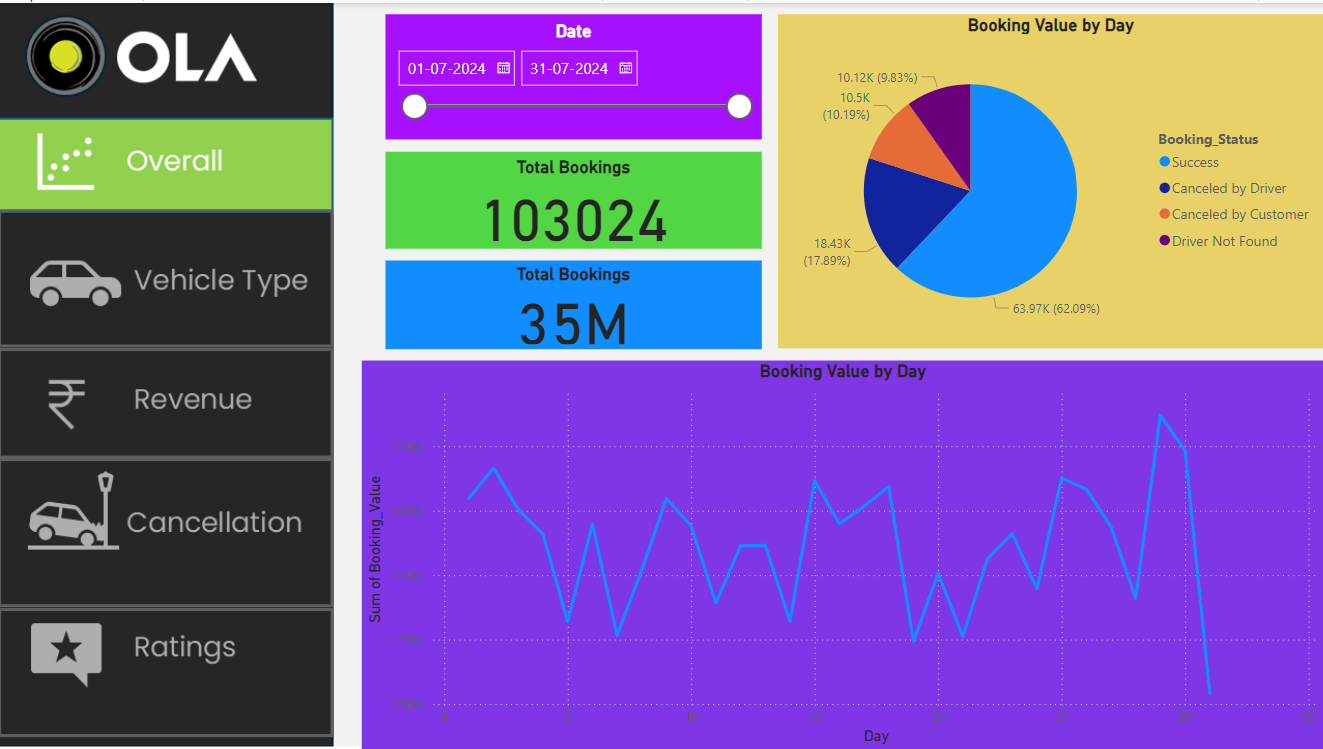

The page's visual inventory and layout, read from the dashboard file:
{"tool":"powerbi","page":{"name":"Overall","canvas":[1280,720],"ordinal":0},"visuals":[{"type":"actionButton","box":[0,199.3,323.9,133.5],"z":0},{"type":"actionButton","box":[0,332.8,323.9,106.8],"z":1000},{"type":"actionButton","box":[0,439.6,323.9,144.2],"z":2000},{"type":"actionButton","box":[0,583.8,323.9,124.6],"z":3000},{"type":"lineChart","title":"Ride Volume Over Time","fields":{"Category":["July.Date.Variation.Date Hierarchy.Day"],"Y":["Sum(July.Booking_Value)"]},"box":[350.6,345.3,929,375.5],"z":4000},{"type":"card","title":"Total Bookings","fields":{"Values":["Count(July.Booking_ID)"]},"box":[374.2,143.5,362.9,93.5],"z":5000},{"type":"slicer","title":"Date ","fields":{"Values":["July.Date"]},"box":[373.8,10.7,363.1,121],"z":6000},{"type":"lineChart","title":"Booking Value by Day","fields":{"Category":["July.Date.Variation.Date Hierarchy.Day"],"Y":["Sum(July.Booking_Value)"]},"box":[350.6,344.5,929,375.5],"z":7000},{"type":"pieChart","title":"Booking Value by Day","fields":{"Y":["CountNonNull(July.Booking_Status)"],"Category":["July.Booking_Status"]},"box":[752.8,10.7,526.8,322.1],"z":8000},{"type":"card","title":"Total Bookings","fields":{"Values":["Sum(July.Booking_Value)"]},"box":[374.2,248.4,362.9,85.5],"z":9000}]}

Visuals, with their boxes in screenshot pixels (x1, y1, x2, y2), scaled from the page's 1280x720 canvas onto the 1323x749 screenshot:
actionButton: x1=0 y1=207 x2=335 y2=346
actionButton: x1=0 y1=346 x2=335 y2=457
actionButton: x1=0 y1=457 x2=335 y2=607
actionButton: x1=0 y1=607 x2=335 y2=737
"Ride Volume Over Time" lineChart: x1=362 y1=359 x2=1322 y2=748
"Total Bookings" card: x1=387 y1=149 x2=762 y2=247
"Date " slicer: x1=386 y1=11 x2=762 y2=137
"Booking Value by Day" lineChart: x1=362 y1=358 x2=1322 y2=748
"Booking Value by Day" pieChart: x1=778 y1=11 x2=1322 y2=346
"Total Bookings" card: x1=387 y1=258 x2=762 y2=347
